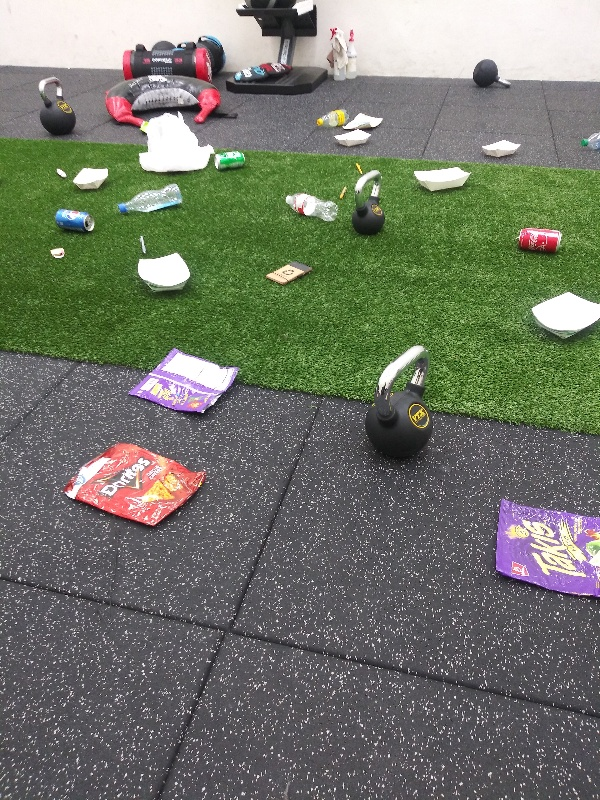bag: (59, 440, 212, 535), (491, 496, 600, 599), (126, 347, 245, 416), (341, 111, 388, 135)
bottle: (115, 181, 186, 217), (281, 190, 341, 225), (314, 106, 350, 132), (577, 130, 600, 153)
can: (516, 226, 567, 256), (53, 207, 97, 235), (214, 148, 247, 173)
plate: (526, 291, 600, 344), (137, 249, 195, 299), (410, 163, 472, 196), (69, 165, 113, 194), (481, 139, 527, 160), (334, 129, 377, 151)
